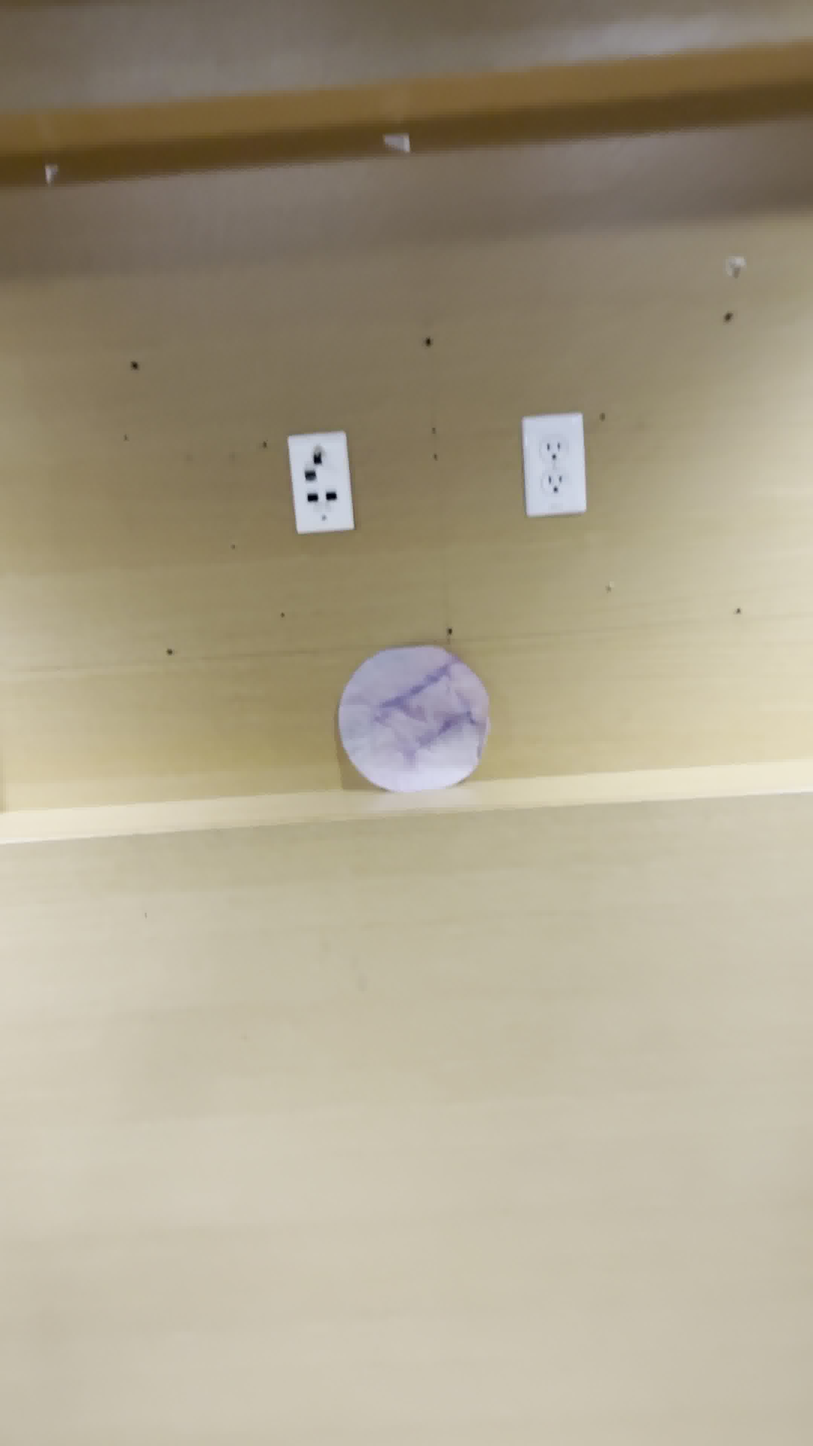Target: (333, 650, 486, 793)
